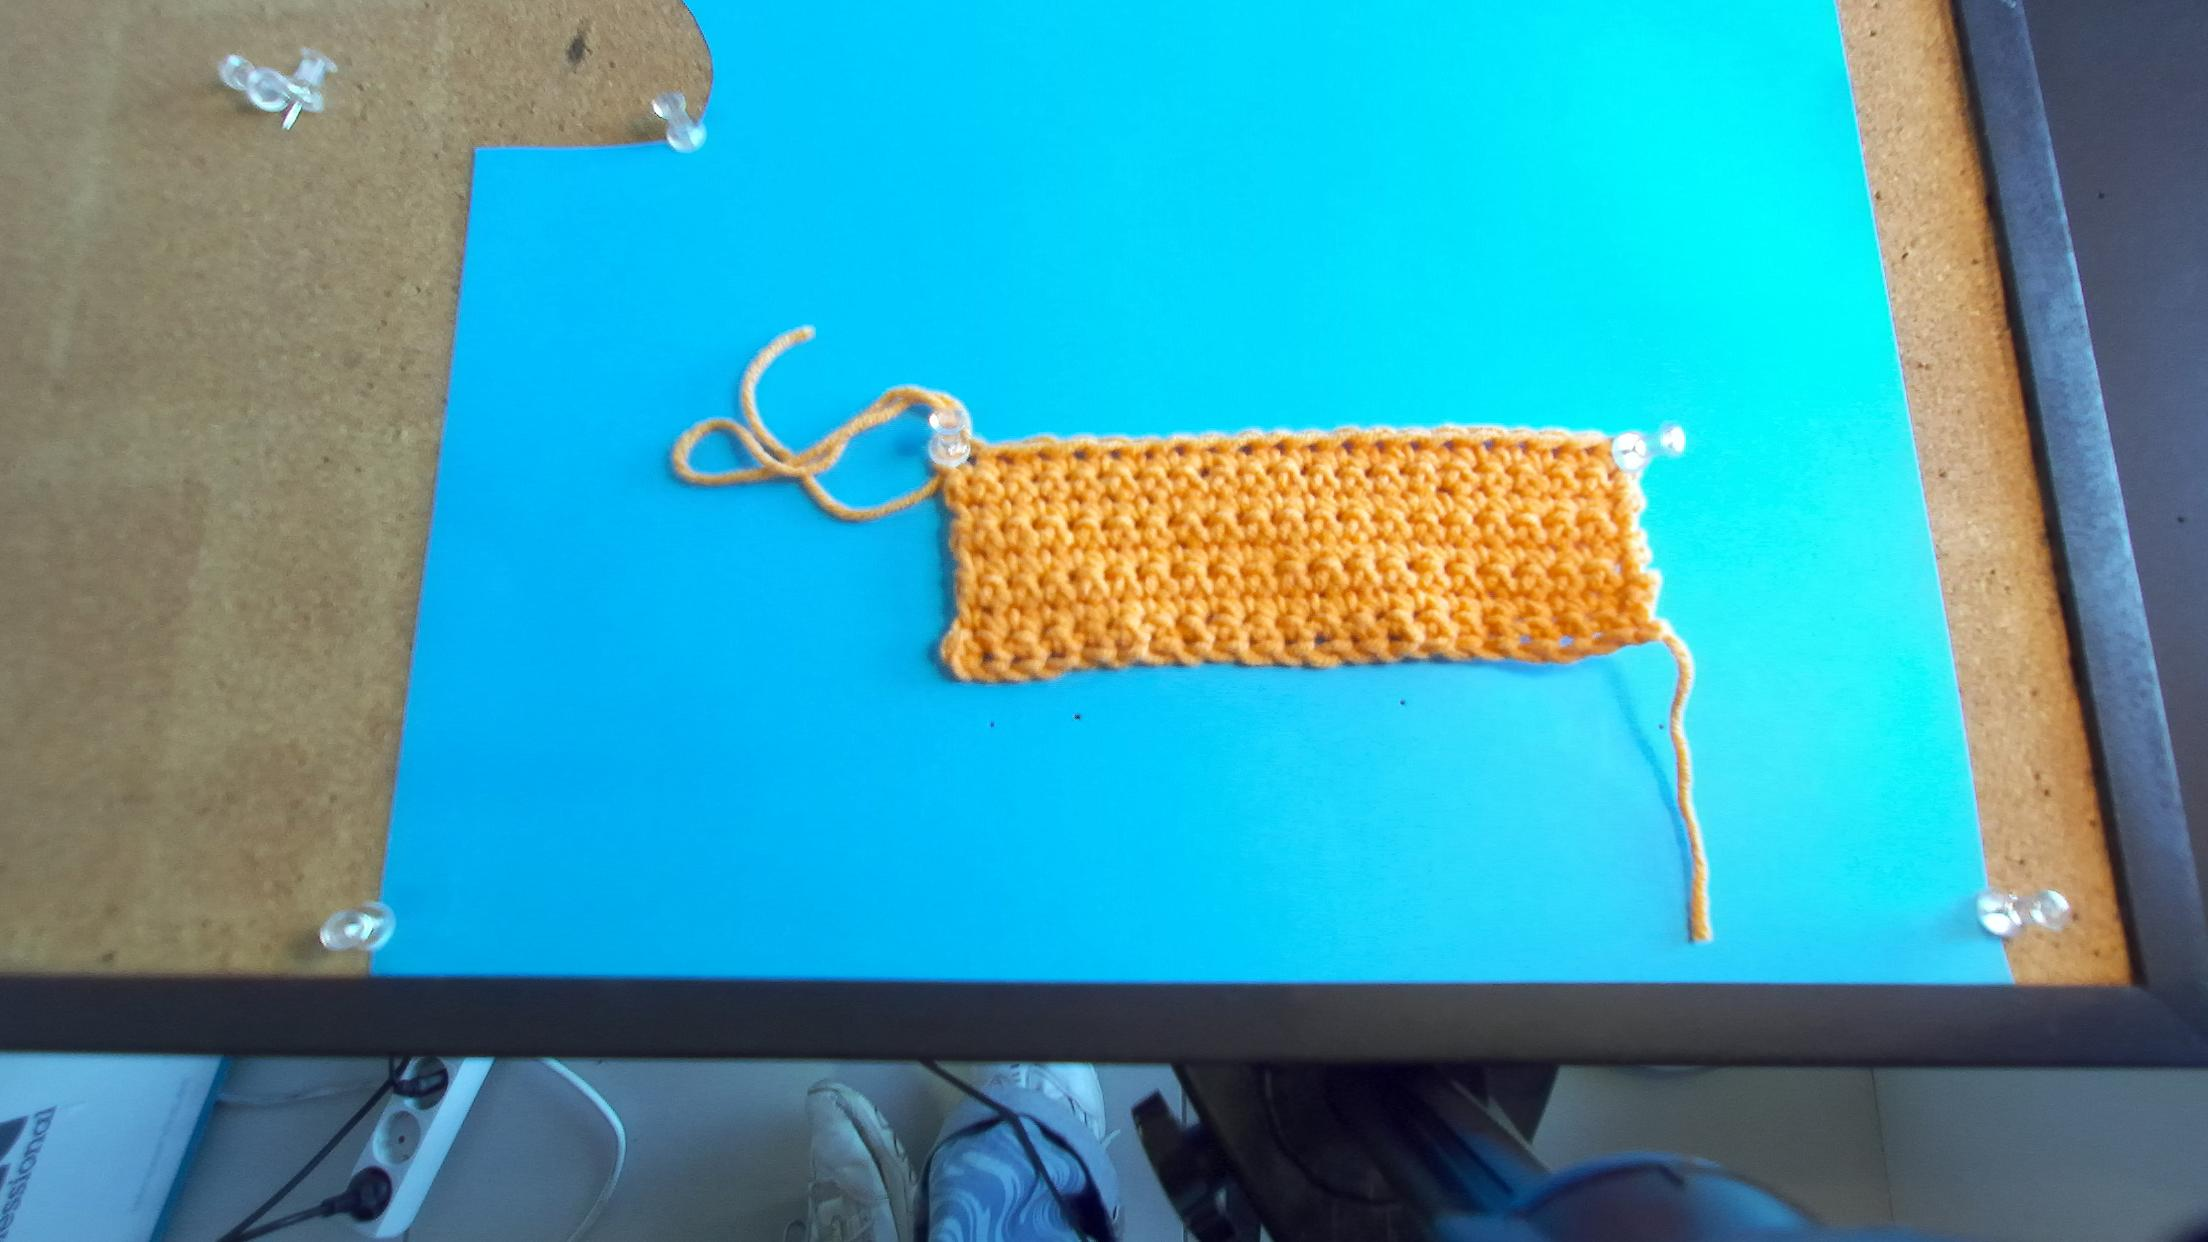hole: (1271, 440, 1287, 456), (1339, 440, 1356, 455), (1372, 438, 1388, 455), (1236, 443, 1254, 456), (996, 453, 1016, 464), (1407, 440, 1422, 453), (1582, 444, 1597, 458), (1306, 440, 1319, 453), (1480, 437, 1494, 450), (1171, 444, 1186, 456), (1441, 438, 1456, 450), (1036, 450, 1052, 461), (1071, 449, 1087, 459), (1515, 440, 1527, 453), (1548, 446, 1562, 458), (964, 455, 977, 467), (1107, 449, 1121, 459), (1142, 449, 1154, 459), (1204, 446, 1218, 453)
swatch: (939, 431, 1667, 688)
